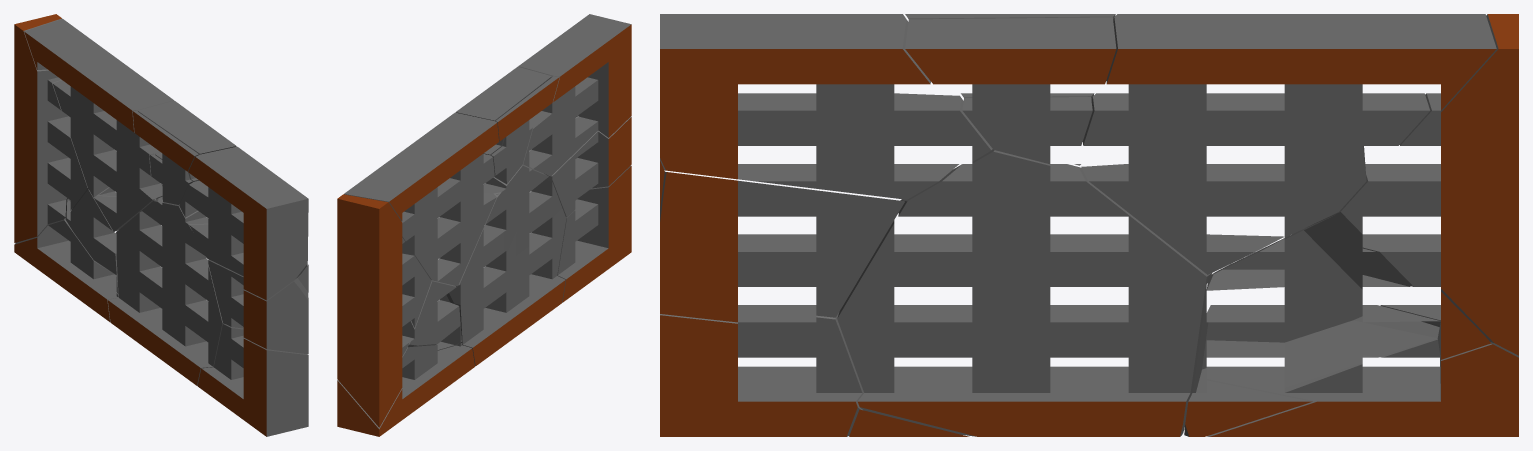
Rendered from WindowFrameCellCrack.fbx.
3 renders of one model, left to right at view 1: azimuth 30°, elevation 25°; view 2: azimuth 150°, elevation 25°; view 3: azimuth 270°, elevation 25°, orthographic. The views are drawn at different scales.
Visible parts, largest first — view 1: WindowFrame_cell.010, WindowFrame_cell.004, WindowFrame_cell.008, WindowFrame_cell.009, WindowFrame_cell.007, WindowFrame_cell.003, WindowFrame_cell.011, WindowFrame_cell.012, WindowFrame_cell.006, WindowFrame_cell.013, WindowFrame_cell.005; view 2: WindowFrame_cell.009, WindowFrame_cell.004, WindowFrame_cell.010, WindowFrame_cell.008, WindowFrame_cell.007, WindowFrame_cell.011, WindowFrame_cell.003, WindowFrame_cell.012, WindowFrame_cell.006, WindowFrame_cell.013, WindowFrame_cell.005; view 3: WindowFrame_cell.004, WindowFrame_cell.010, WindowFrame_cell.008, WindowFrame_cell.009, WindowFrame_cell.012, WindowFrame_cell.003, WindowFrame_cell.007, WindowFrame_cell.006, WindowFrame_cell.011, WindowFrame_cell, WindowFrame_cell.013.
Boxes of the visible parts, x1,y1,x2,y2 form: WindowFrame_cell.010: [24, 19, 173, 231]; WindowFrame_cell.004: [108, 196, 225, 385]; WindowFrame_cell.008: [179, 146, 308, 300]; WindowFrame_cell.009: [14, 14, 87, 242]; WindowFrame_cell.007: [197, 324, 308, 436]; WindowFrame_cell.003: [208, 259, 308, 354]; WindowFrame_cell.011: [14, 218, 118, 322]; WindowFrame_cell.012: [65, 187, 118, 293]; WindowFrame_cell.006: [138, 100, 236, 182]; WindowFrame_cell.013: [132, 110, 198, 171]; WindowFrame_cell.005: [149, 153, 192, 204]; WindowFrame_cell.009: [337, 194, 431, 427]; WindowFrame_cell.004: [446, 164, 566, 366]; WindowFrame_cell.010: [344, 112, 498, 286]; WindowFrame_cell.008: [518, 14, 631, 176]; WindowFrame_cell.007: [557, 165, 631, 302]; WindowFrame_cell.011: [337, 343, 474, 436]; WindowFrame_cell.003: [544, 116, 631, 217]; WindowFrame_cell.012: [402, 280, 461, 350]; WindowFrame_cell.006: [455, 66, 551, 155]; WindowFrame_cell.013: [495, 76, 559, 141]; WindowFrame_cell.005: [491, 120, 532, 184]; WindowFrame_cell.004: [837, 149, 1211, 436]; WindowFrame_cell.010: [1081, 14, 1496, 274]; WindowFrame_cell.008: [660, 14, 992, 199]; WindowFrame_cell.009: [1308, 14, 1518, 357]; WindowFrame_cell.012: [1184, 213, 1491, 436]; WindowFrame_cell.003: [660, 171, 904, 322]; WindowFrame_cell.007: [660, 305, 863, 436]; WindowFrame_cell.006: [905, 17, 1116, 164]; WindowFrame_cell.011: [1206, 338, 1518, 436]; WindowFrame_cell: [849, 409, 969, 436]; WindowFrame_cell.013: [905, 14, 1115, 20].
Bounding box in the file's own units: 9.59 × 49.7 × 99.68.
